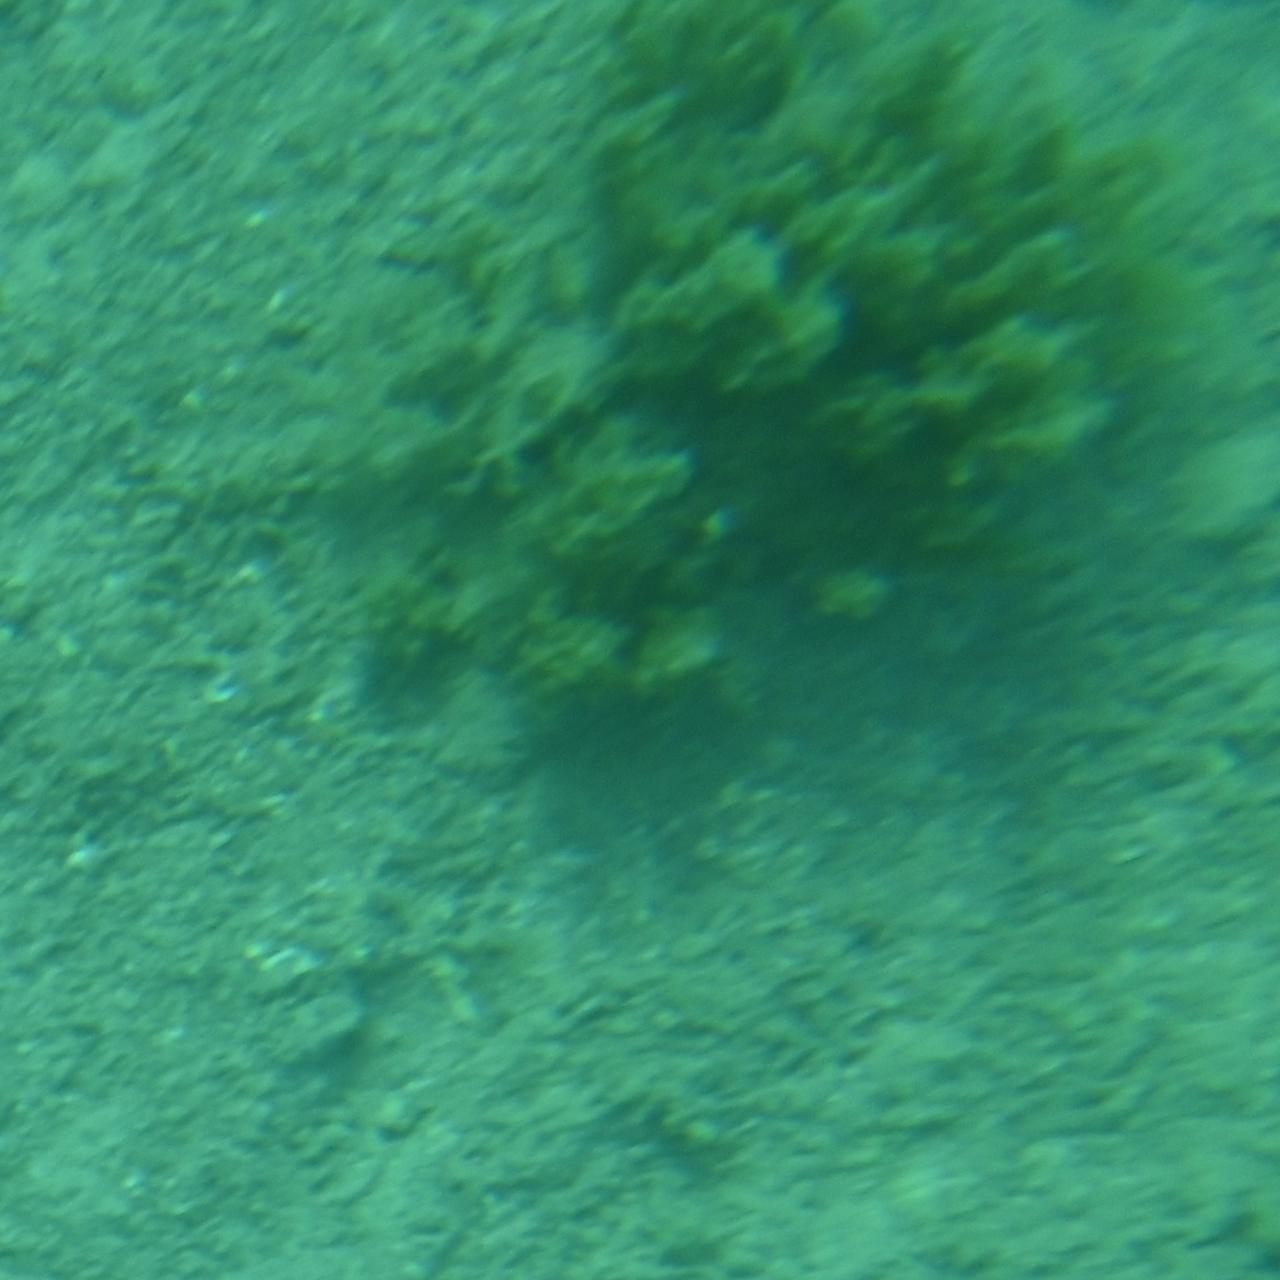Phaeophyceae -cfr Cystoseira-: (306, 0, 1176, 784)
